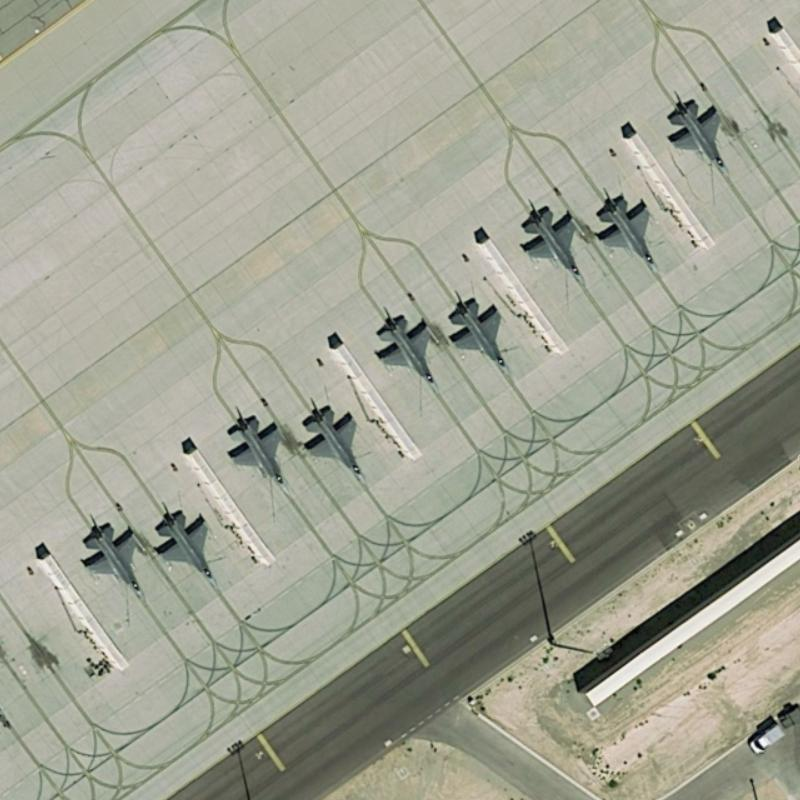A5: (221, 403, 307, 499), (369, 300, 447, 404), (292, 391, 376, 487), (441, 285, 520, 382), (145, 499, 228, 588), (588, 184, 666, 277), (514, 197, 589, 292), (71, 512, 147, 604), (663, 82, 733, 181)
